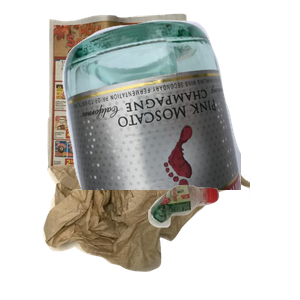glass: (60, 17, 300, 197)
paper: (44, 11, 229, 181)
plastic: (146, 182, 300, 300)
trash: (40, 138, 280, 300)
